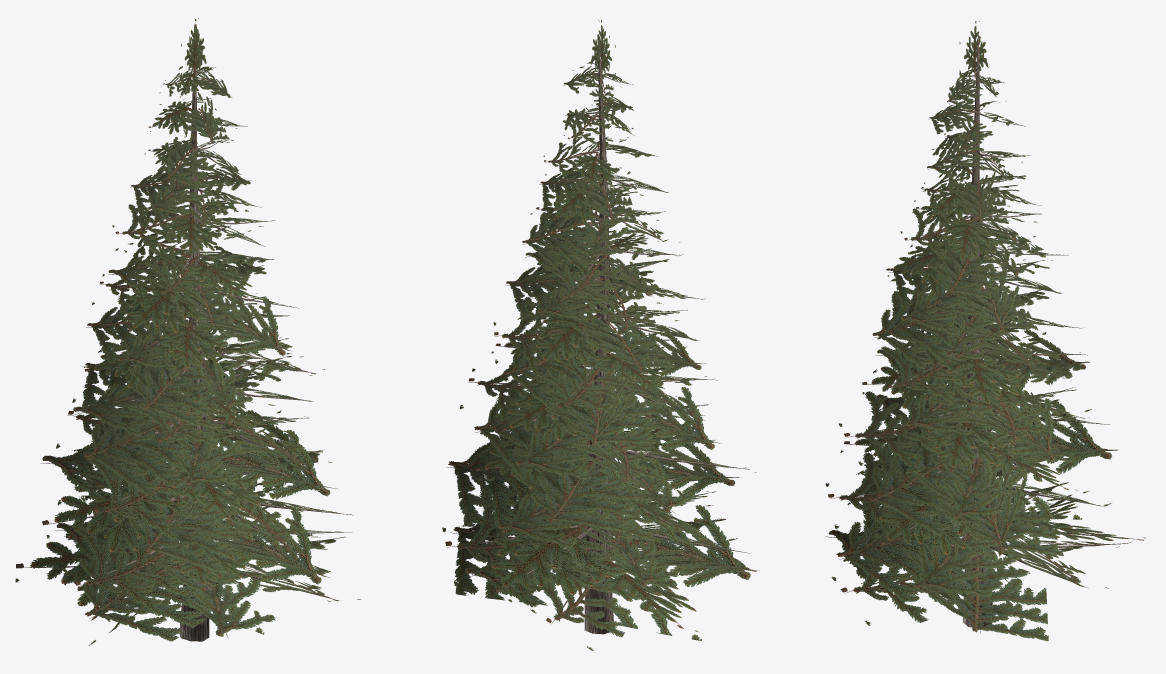
File: CW_CardedAlpineFir_LOD1.fbx
3 renders of one model, left to right at view 1: azimuth 30°, elevation 25°; view 2: azimuth 150°, elevation 25°; view 3: azimuth 270°, elevation 25°, orthographic. The views are drawn at different scales.
Visible parts, largest first — view 1: CW_CardedAlpineFir_LOD1_Needles, CW_CardedAlpineFir_LOD1_Wood; view 2: CW_CardedAlpineFir_LOD1_Needles, CW_CardedAlpineFir_LOD1_Wood; view 3: CW_CardedAlpineFir_LOD1_Needles, CW_CardedAlpineFir_LOD1_Wood.
Part boxes in pixels (x1,y1,x2,y2): CW_CardedAlpineFir_LOD1_Needles: [15, 18, 360, 645]; CW_CardedAlpineFir_LOD1_Wood: [16, 37, 351, 641]; CW_CardedAlpineFir_LOD1_Needles: [442, 19, 756, 650]; CW_CardedAlpineFir_LOD1_Wood: [447, 34, 759, 634]; CW_CardedAlpineFir_LOD1_Needles: [825, 21, 1145, 641]; CW_CardedAlpineFir_LOD1_Wood: [825, 34, 1143, 633].
Bounding box in the file's own units: 4.87 × 9.01 × 4.76.
2 materials, 2 textured.
